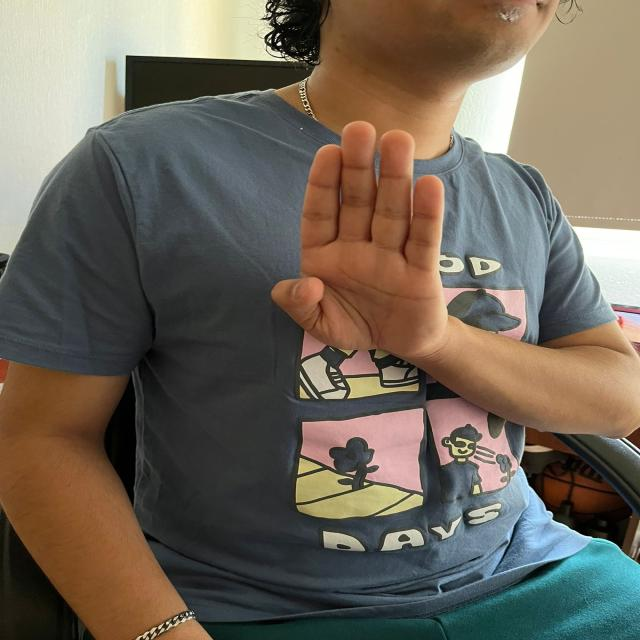B: (269, 113, 460, 364)
